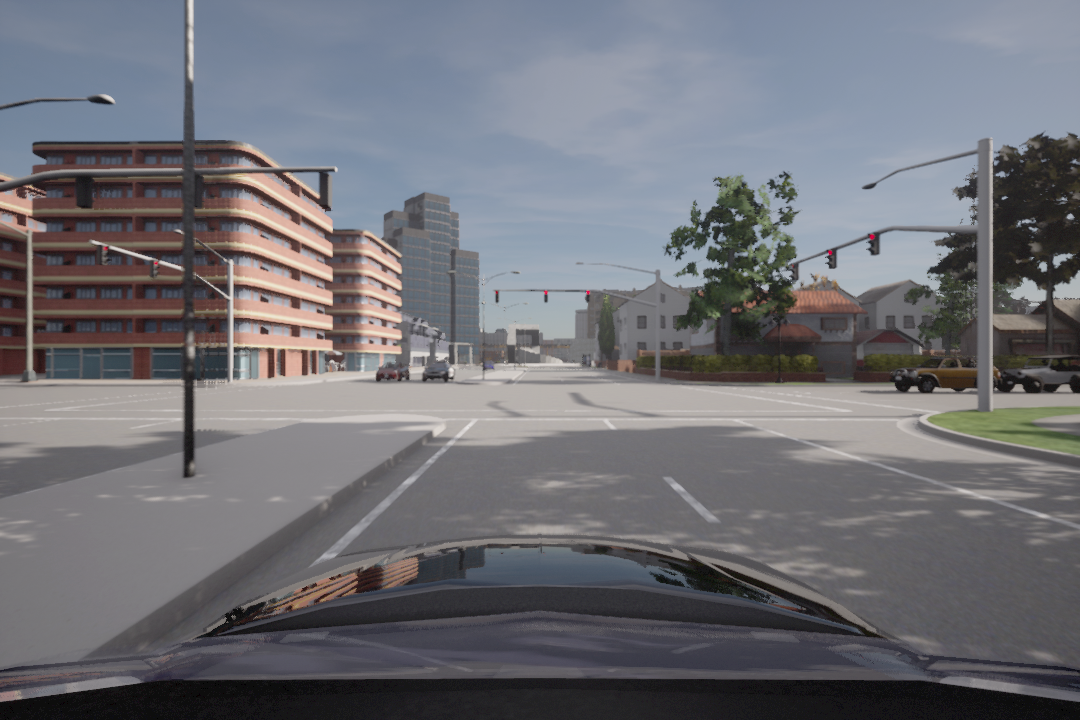TrafficLight: (866, 232, 882, 259), (94, 241, 110, 266), (827, 244, 840, 271), (146, 259, 161, 282), (789, 261, 801, 284), (582, 287, 591, 304), (540, 288, 550, 303), (494, 287, 500, 304)
